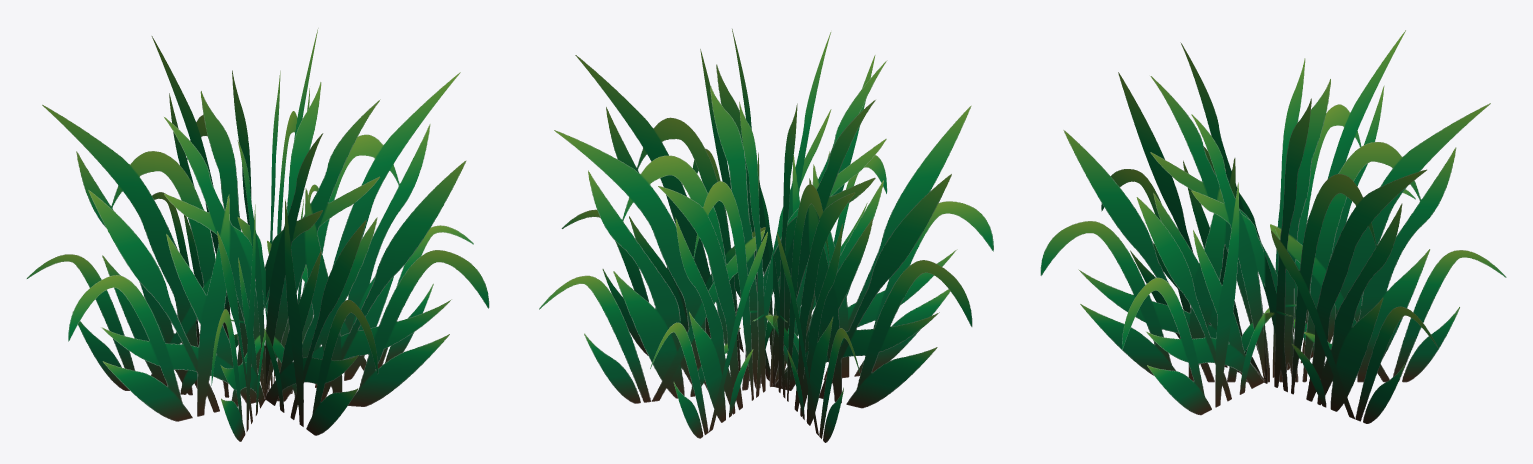
Rendered from SM_Grass_Texture.fbx.
3 renders of one model, left to right at view 1: azimuth 30°, elevation 25°; view 2: azimuth 150°, elevation 25°; view 3: azimuth 270°, elevation 25°, orthographic.
Visible parts, largest first — view 1: T_Grass_Flower.017, T_Grass_Flower.015, T_Grass_Flower.011, T_Grass_Flower.016; view 2: T_Grass_Flower.016, T_Grass_Flower.015, T_Grass_Flower.011, T_Grass_Flower.017; view 3: T_Grass_Flower.011, T_Grass_Flower.016, T_Grass_Flower.017.
Part boxes in pixels (box(x1,y1,x2,y2)): T_Grass_Flower.017: box(26, 91, 489, 406); T_Grass_Flower.015: box(68, 72, 473, 421); T_Grass_Flower.011: box(151, 36, 378, 435); T_Grass_Flower.016: box(211, 28, 318, 441); T_Grass_Flower.016: box(539, 60, 993, 403); T_Grass_Flower.015: box(561, 55, 972, 408); T_Grass_Flower.011: box(650, 32, 887, 438); T_Grass_Flower.017: box(692, 29, 860, 442); T_Grass_Flower.011: box(1040, 76, 1506, 382); T_Grass_Flower.016: box(1101, 42, 1438, 423); T_Grass_Flower.017: box(1122, 30, 1415, 415).
Bounding box in the file's own units: 0.0981 × 0.0713 × 0.0981.
